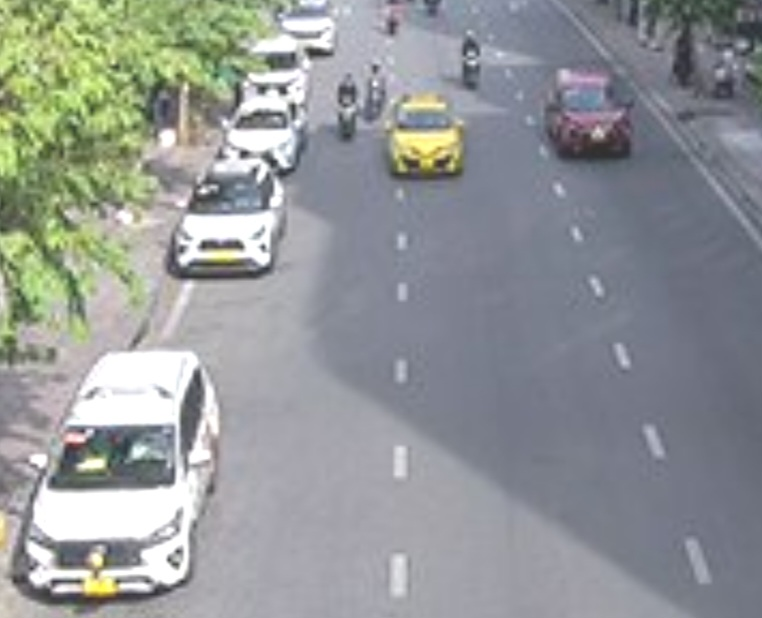car: (19, 341, 229, 602), (171, 160, 286, 278), (543, 65, 632, 159), (383, 92, 465, 179), (220, 100, 305, 172), (240, 38, 313, 101)
